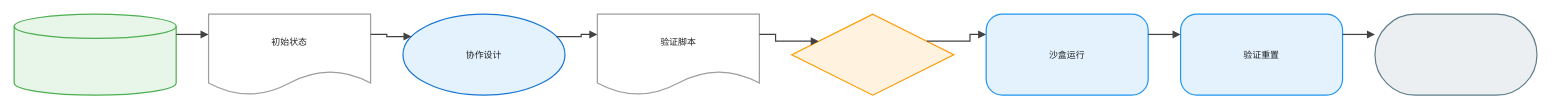
The diagram is 1552 pixels wide and 110 high, and some of its shapes have lost their labels. The shapes that lost their labels are listed below. From the top down, each one's box as (x1, y1, x2, y2) in pixels, then its label:
(13, 13, 176, 95): 5服务器
(791, 13, 954, 95): 交叉审查
(1374, 13, 1537, 95): Pass@k
